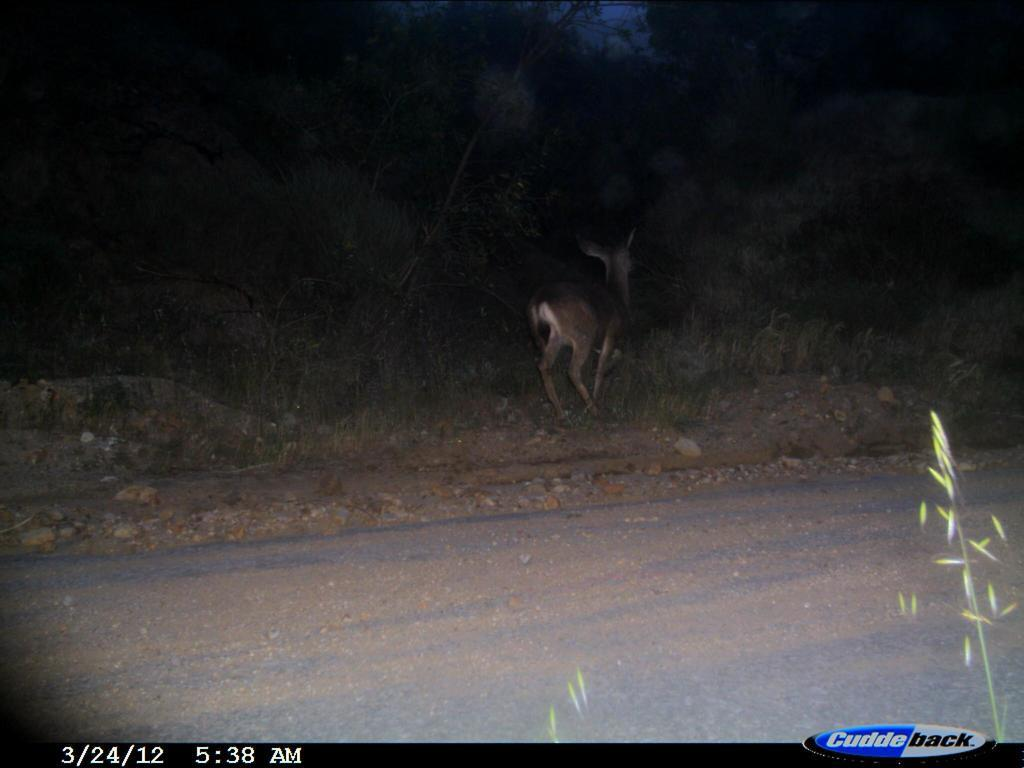deer: (528, 219, 644, 437)
